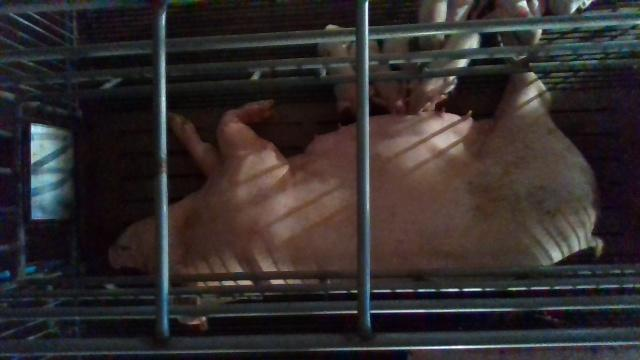piglet: (409, 31, 480, 113), (320, 25, 375, 115), (347, 39, 406, 113), (483, 0, 543, 46), (419, 1, 447, 48)
sow-sleep-lactate: (112, 72, 602, 287)
